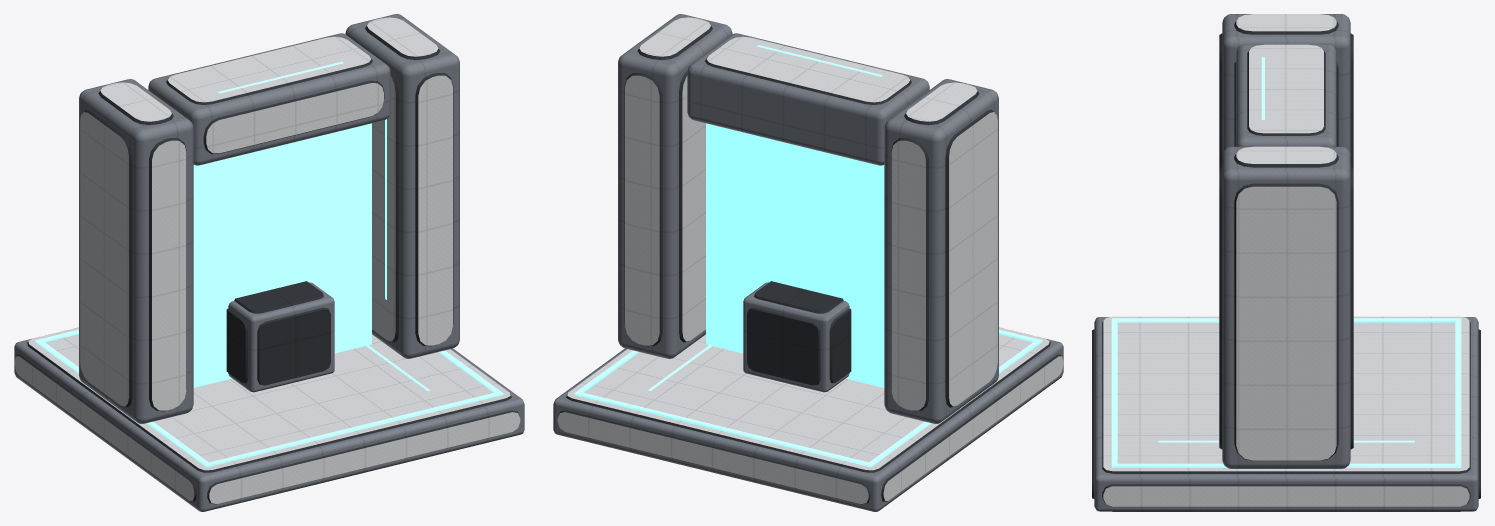
The model's file is R4X_StructuralScanner.glb.
3 views of the same model, side by side, from view 1: azimuth 30°, elevation 25°; view 2: azimuth 150°, elevation 25°; view 3: azimuth 270°, elevation 25° (orthographic). The views are drawn at different scales.
Parts seen in each view (by area): view 1: R4X_StructuralScanner_Body; view 2: R4X_StructuralScanner_Body; view 3: R4X_StructuralScanner_Body.
Part boxes in pixels (left/top/right/bottom): R4X_StructuralScanner_Body: left=14, top=14, right=524, bottom=511; R4X_StructuralScanner_Body: left=553, top=14, right=1063, bottom=511; R4X_StructuralScanner_Body: left=1092, top=14, right=1480, bottom=511.
Size of the model in its own units: 0.52 by 0.5112 by 0.52.
Materials: 4 (3 with a texture image).
